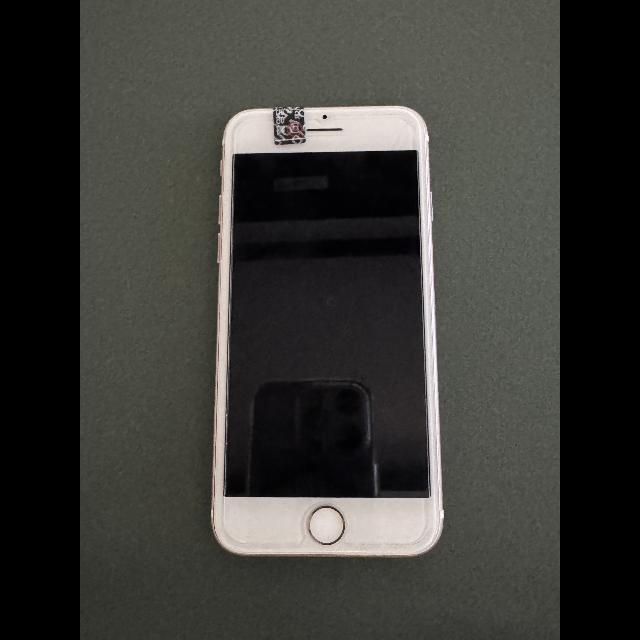lens: (321, 114, 327, 119)
phone: (211, 106, 443, 557)
sticker: (273, 107, 306, 146)
